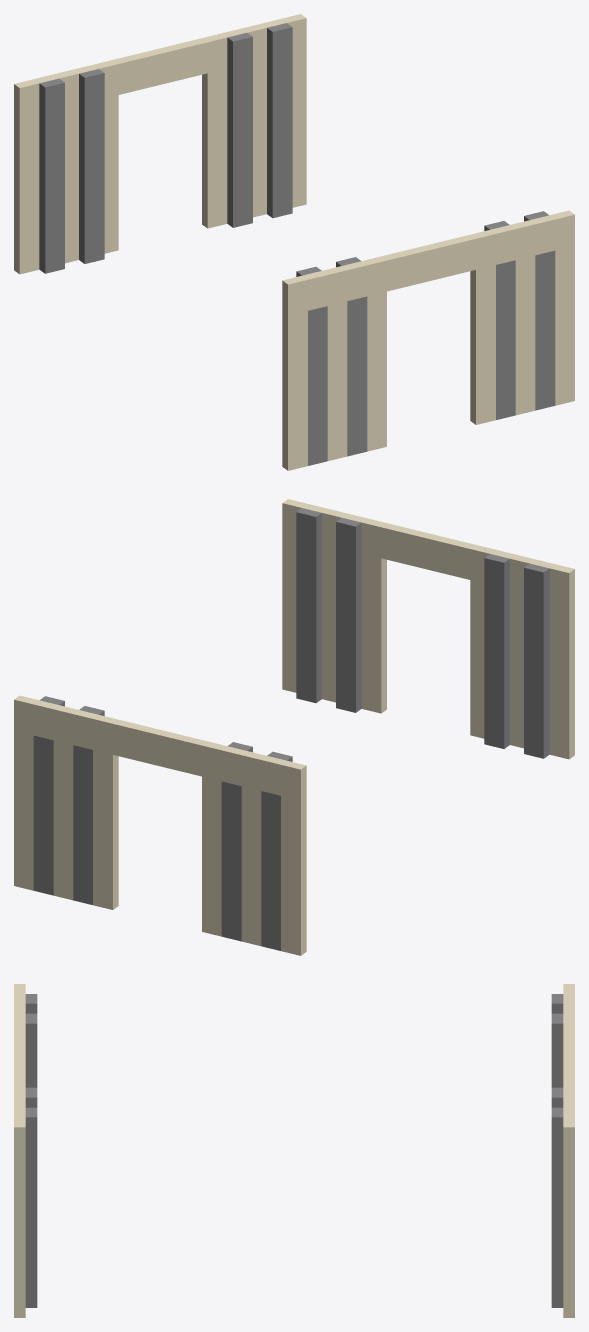
Rendered from hearse_curtains.glb.
3 views of the same model, one above another, from view 1: azimuth 30°, elevation 25°; view 2: azimuth 150°, elevation 25°; view 3: azimuth 270°, elevation 25° (orthographic). The views are drawn at different scales.
Parts seen in each view (by area): view 1: body:compound; view 2: body:compound; view 3: body:compound.
Boxes of the visible parts, bbox=[...] form: body:compound: bbox=[14, 14, 574, 470]; body:compound: bbox=[14, 499, 574, 955]; body:compound: bbox=[14, 984, 574, 1317].
Size of the model in its own units: 0.9062 by 0.5625 by 1.5.
